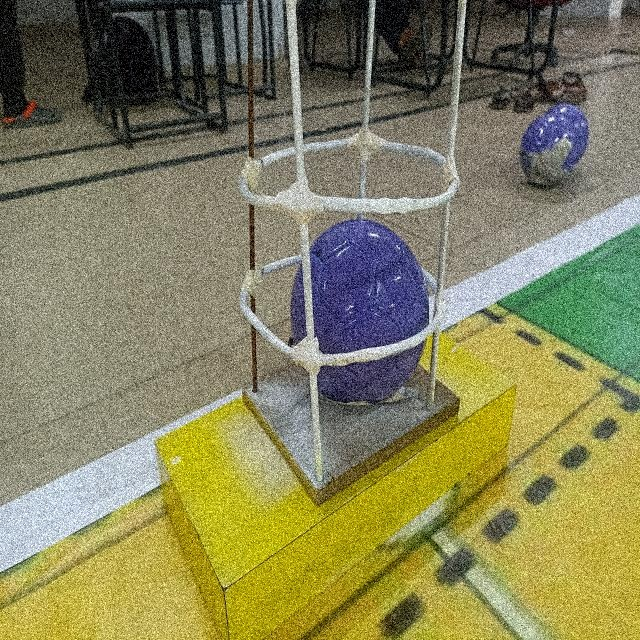purple_ball: (296, 225, 421, 396), (523, 115, 572, 172), (556, 106, 586, 140)
silo: (240, 0, 466, 501)
